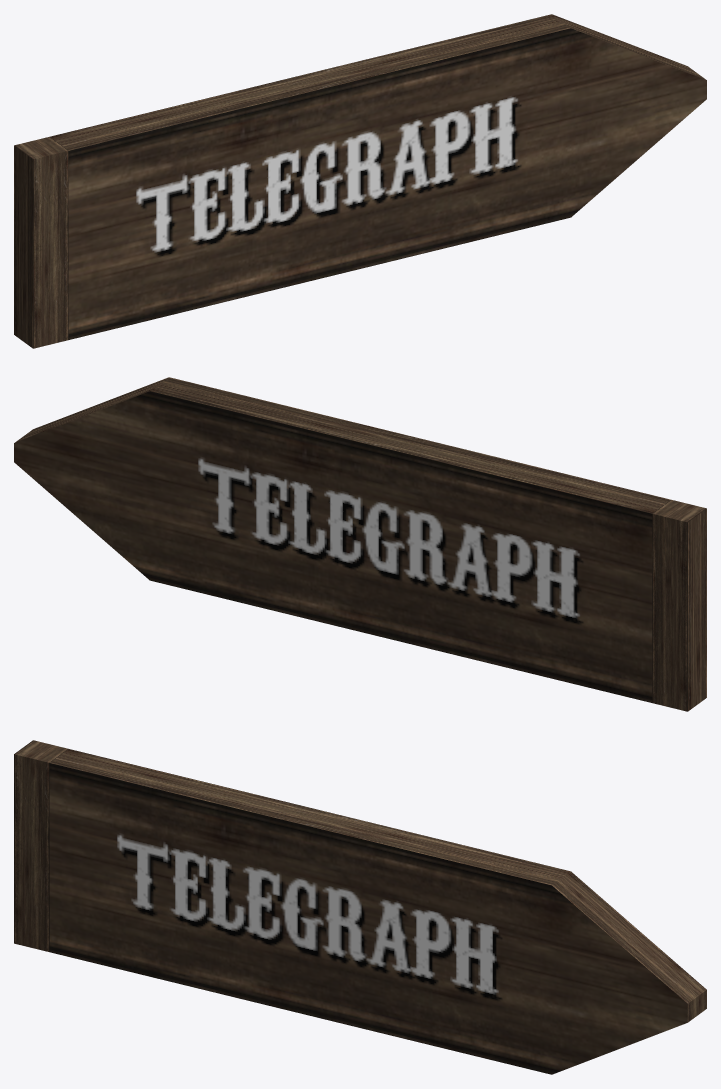
Rendered from wooden-sign-11.fbx.
3 renders of one model, top to bottom at view 1: azimuth 30°, elevation 25°; view 2: azimuth 150°, elevation 25°; view 3: azimuth 330°, elevation 25°, orthographic.
Visible parts, largest first — view 1: Cube.249; view 2: Cube.249; view 3: Cube.249.
Part boxes in pixels (left/top/right/bottom): Cube.249: left=14, top=14, right=706, bottom=348; Cube.249: left=14, top=377, right=706, bottom=711; Cube.249: left=14, top=740, right=706, bottom=1074.
Bounding box in the file's own units: 1.11 × 0.2988 × 0.0549.
